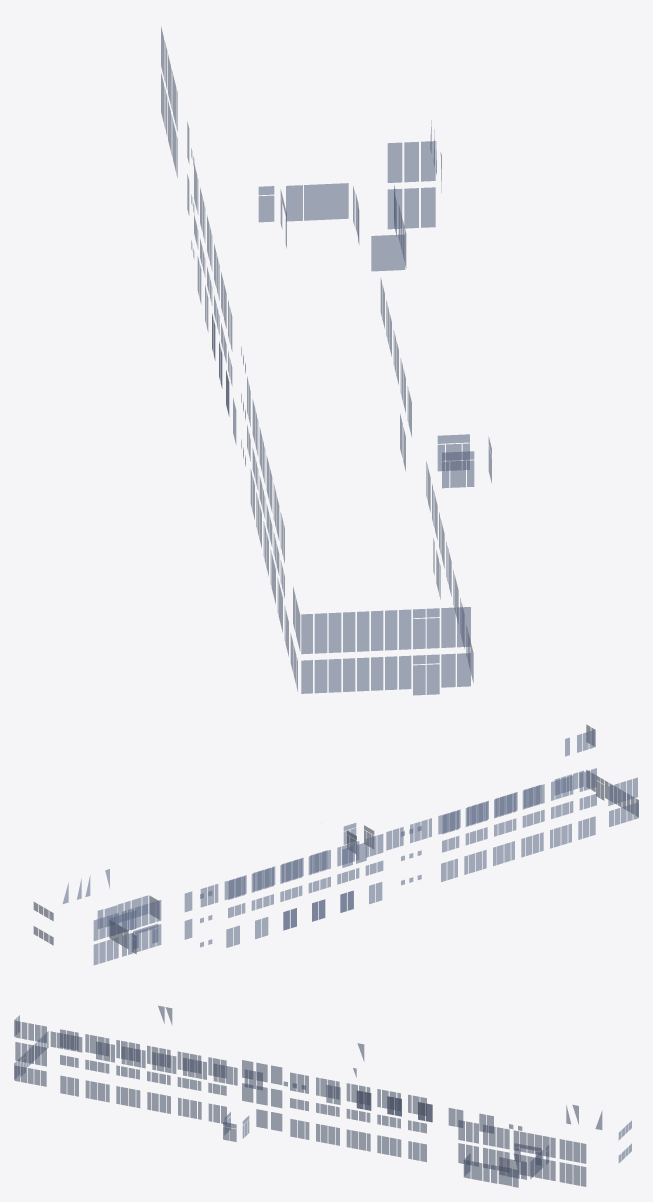
The model's file is glasses.glb.
3 views of the same model, one above another, from view 1: azimuth 30°, elevation 25°; view 2: azimuth 150°, elevation 25°; view 3: azimuth 270°, elevation 25° (orthographic). The views are drawn at different scales.
Visible parts, largest first — view 1: polySurface593, polySurface283, polySurface1; view 2: polySurface593, polySurface1, polySurface283; view 3: polySurface593, polySurface1, polySurface283.
Part boxes in pixels (x1=…): polySurface593: x1=191, y1=183, x2=491, y2=695; polySurface283: x1=161, y1=73, x2=470, y2=654; polySurface1: x1=161, y1=27, x2=440, y2=599; polySurface593: x1=97, y1=770, x2=638, y2=953; polySurface1: x1=33, y1=724, x2=596, y2=940; polySurface283: x1=33, y1=777, x2=637, y2=965; polySurface593: x1=14, y1=1031, x2=549, y2=1187; polySurface1: x1=14, y1=1005, x2=631, y2=1163; polySurface283: x1=15, y1=1042, x2=631, y2=1186.
Size of the model in its own units: 56.36 by 10.89 by 93.01.
